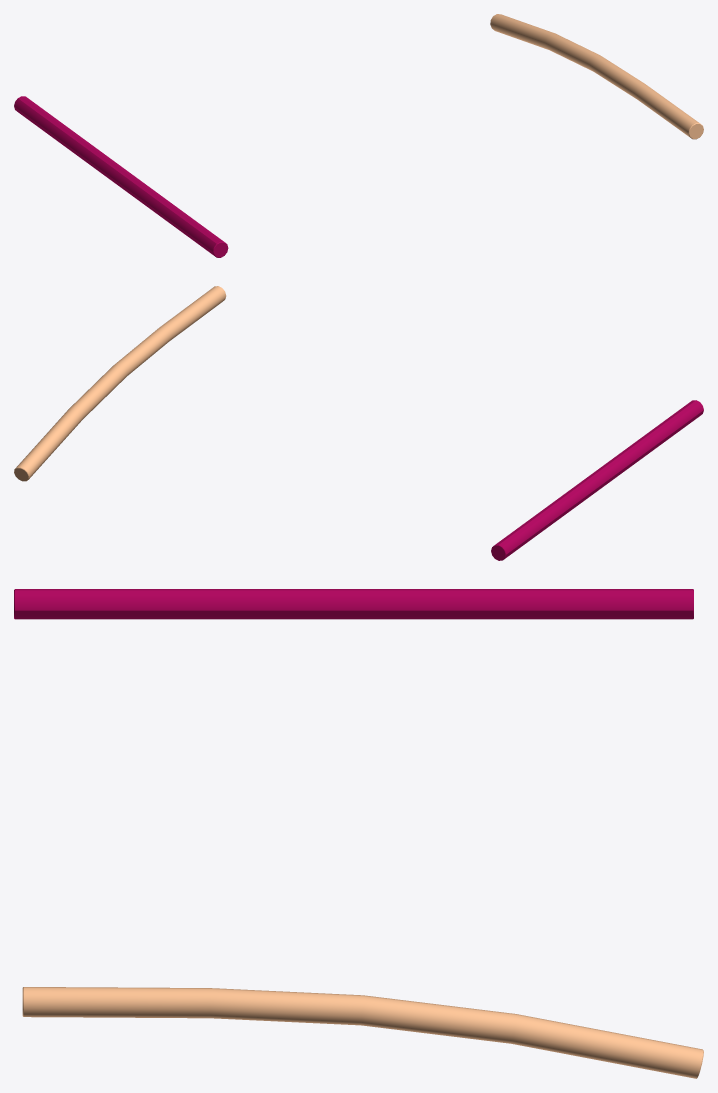
File: alex_round_holder_roof_fabric.FBX
3 renders of one model, top to bottom at view 1: azimuth 30°, elevation 25°; view 2: azimuth 150°, elevation 25°; view 3: azimuth 270°, elevation 25°, orthographic. The views are drawn at different scales.
Visible parts, largest first — view 1: alex_round_holder_1_2; view 2: alex_round_holder_1_2; view 3: alex_round_holder_1_2.
Part boxes in pixels (x1,y1,x2,y2): alex_round_holder_1_2: (14,14,703,257); alex_round_holder_1_2: (14,286,703,560); alex_round_holder_1_2: (14,589,703,1078).
Size of the model in its own units: 320 by 32.44 by 227.
